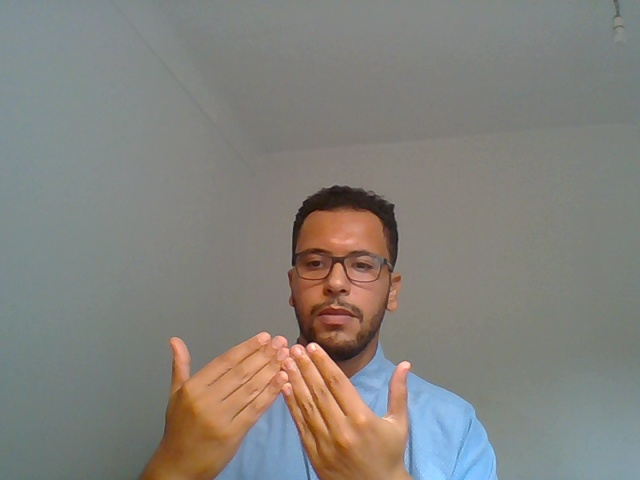thanks: (88, 303, 503, 480)
